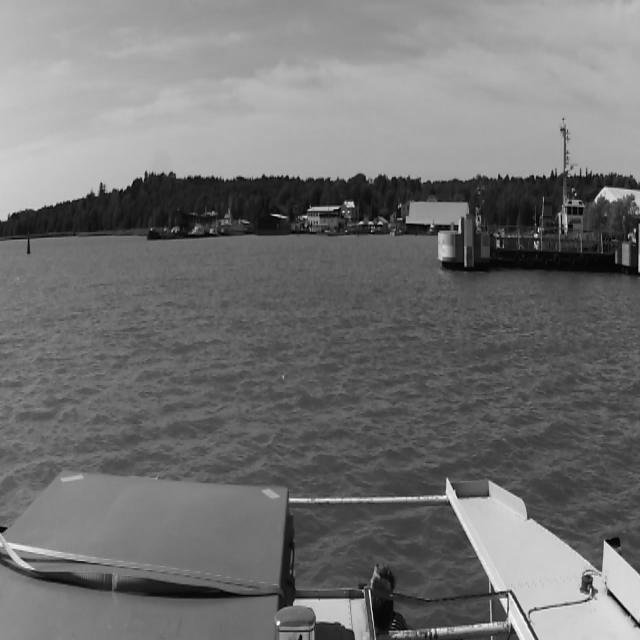buoy: (25, 225, 33, 256)
ship: (215, 197, 249, 239), (187, 218, 207, 240), (206, 224, 220, 239), (427, 219, 437, 237)
